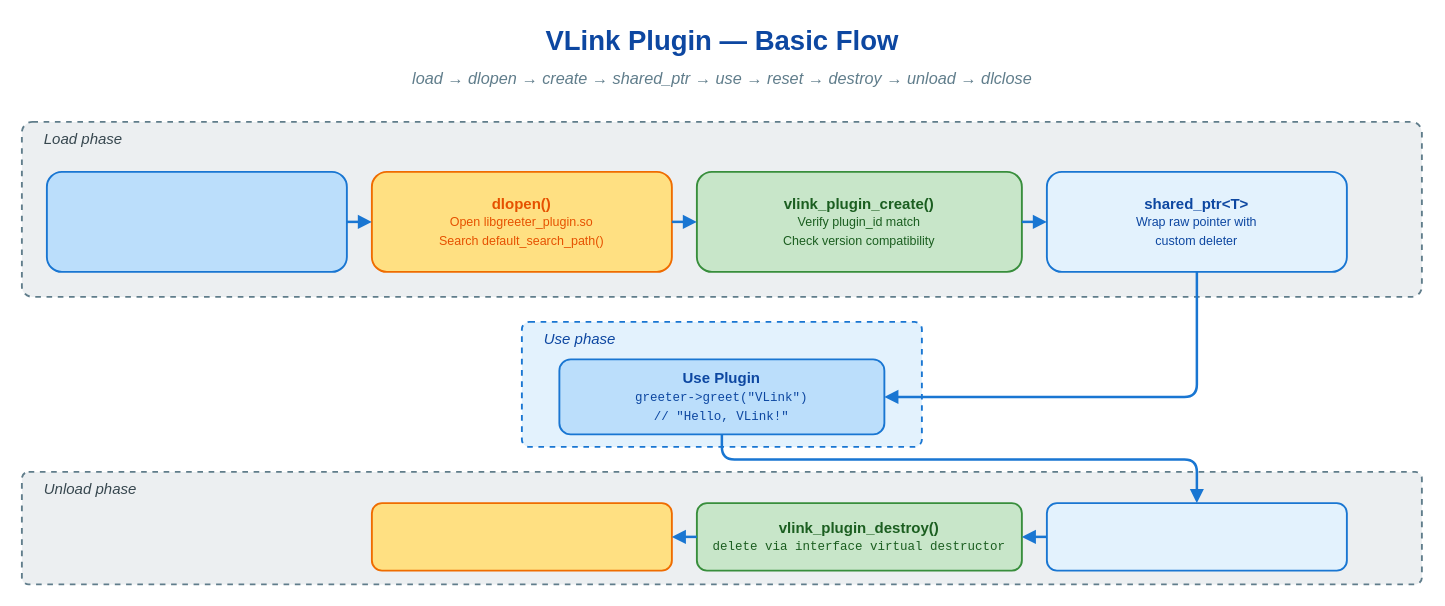
This 1445x606 diagram has some shape labels left out. Each missing label, with the box of its shape:
Plugin::load<T>() Host calls load with lib name, version major / minor: (45, 170, 347, 272)
Plugin::unload<T>() release registry entry → dlclose: (370, 502, 672, 571)
shared_ptr reset last ref gone → custom deleter: (1045, 502, 1347, 571)
